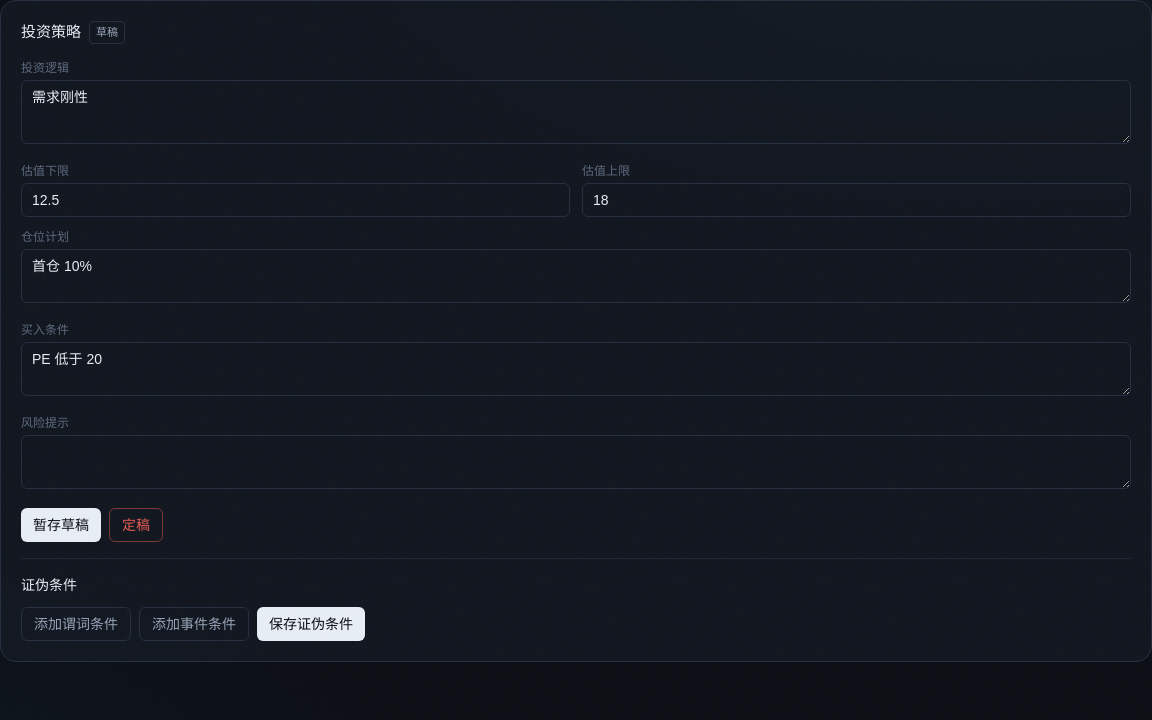
StrategyPanel › 定稿前端预校验：估值倒挂拦截，不调 finalize
The image size is (1152, 720).
Replace the text in the number field labelled "估值下限" with "20" at (296, 200), box [21, 182, 570, 216]
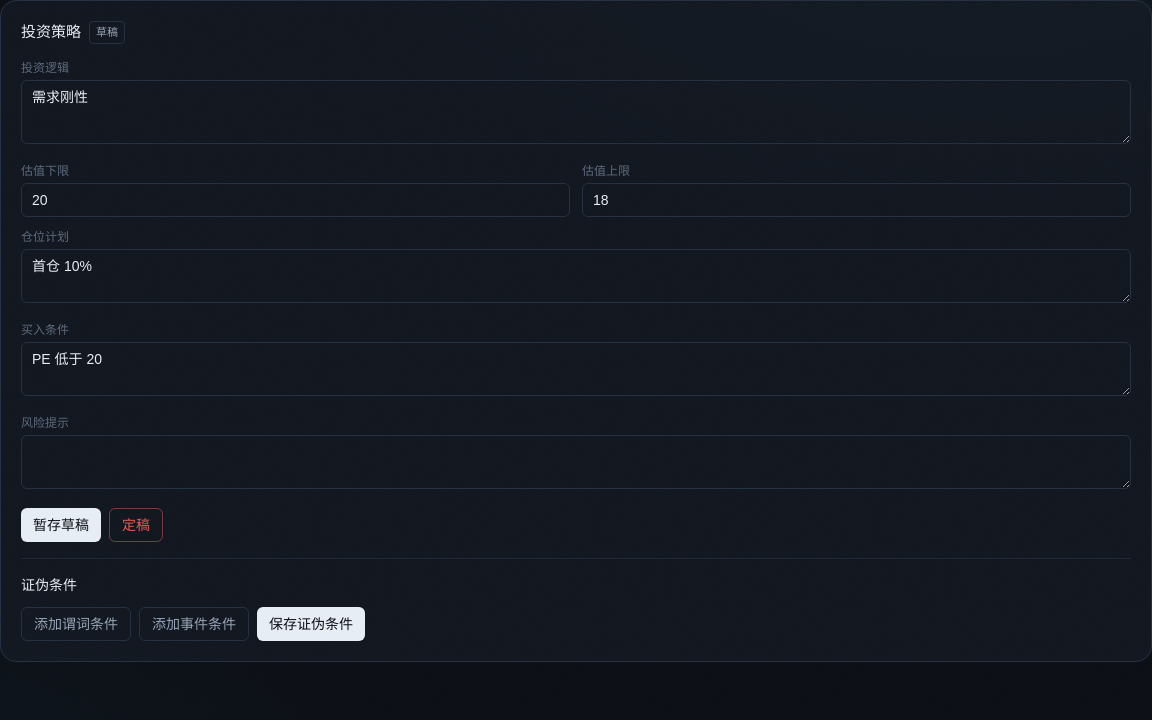
Replace the text in the number field labelled "估值上限" with "12.5" at (856, 200), box [582, 182, 1131, 216]
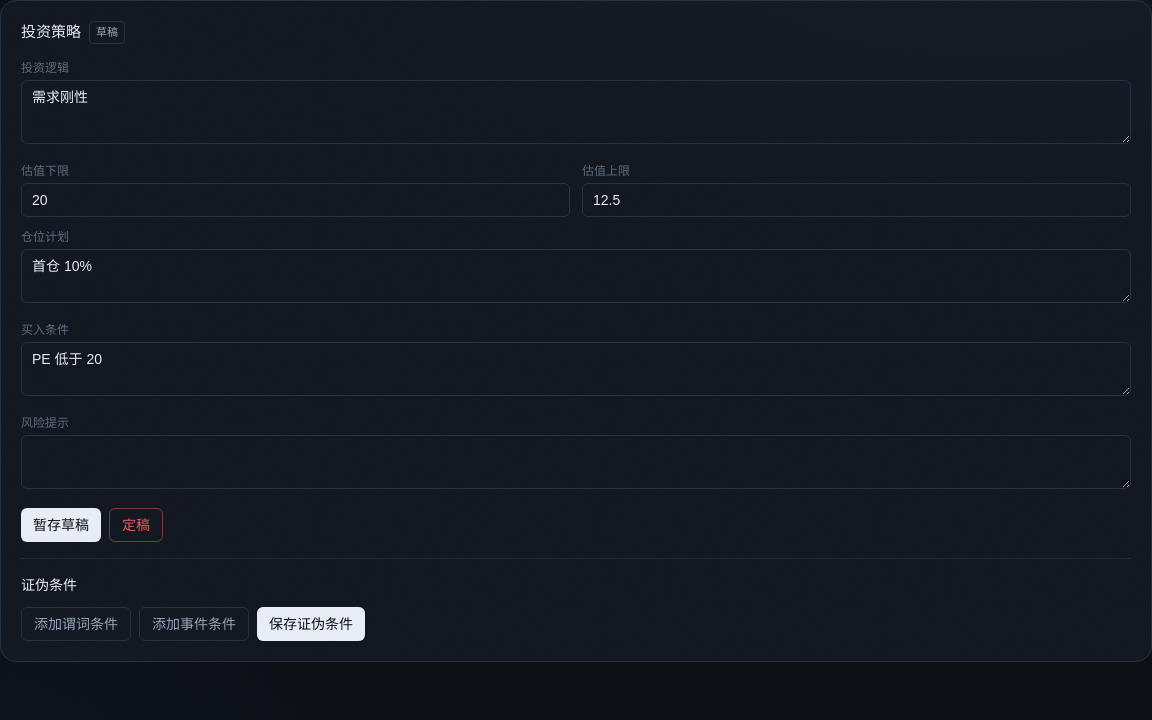
Click the button "定稿".
click(136, 524)  # box [109, 508, 163, 542]
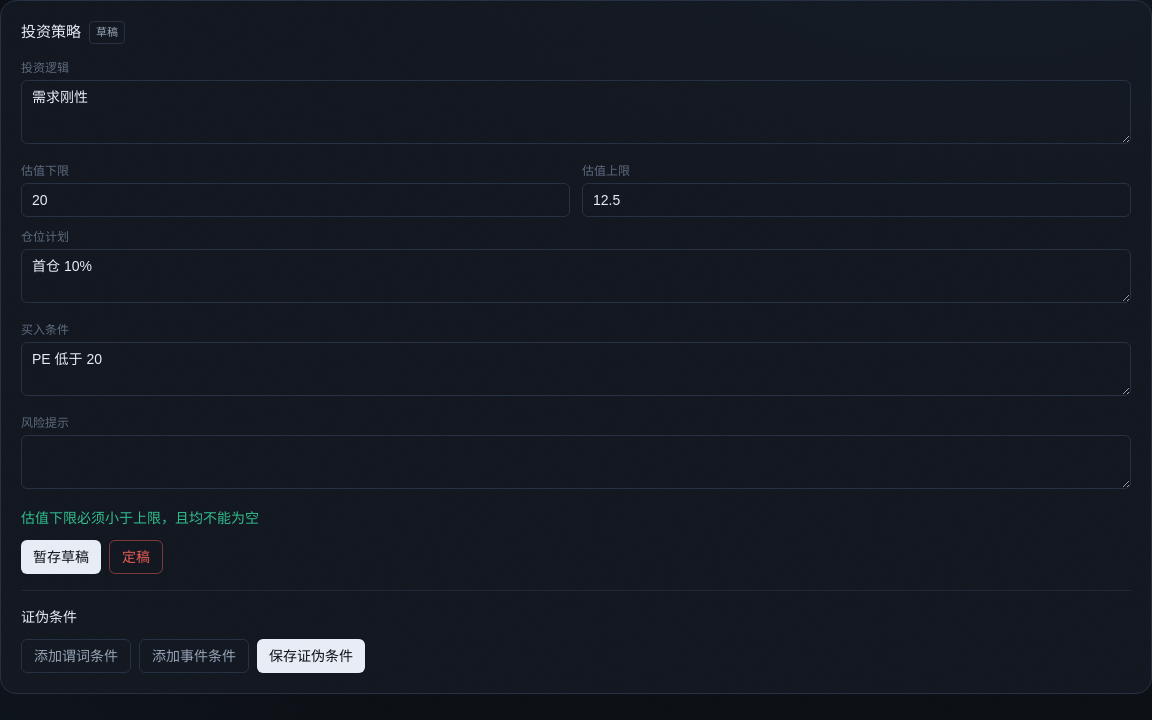
Now the text "估值下限必须小于上限，且均不能为空" is shown, box [21, 510, 259, 526]
